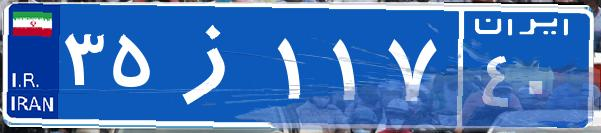0: (525, 38, 570, 115)
1: (273, 28, 330, 110), (330, 28, 385, 110)
3: (57, 26, 110, 107)
4: (475, 38, 525, 113)
5: (110, 28, 158, 105)
7: (385, 28, 445, 110)
ز: (158, 15, 273, 115)
